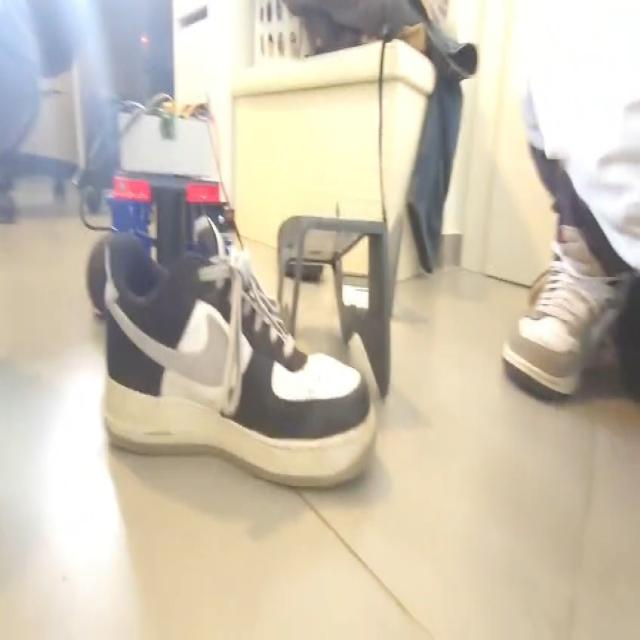Robot: (87, 99, 234, 313)
